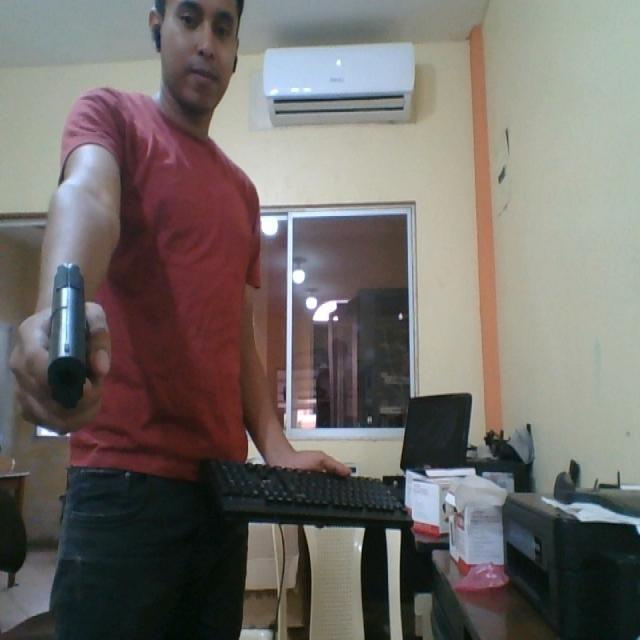weapon: (46, 260, 90, 410)
